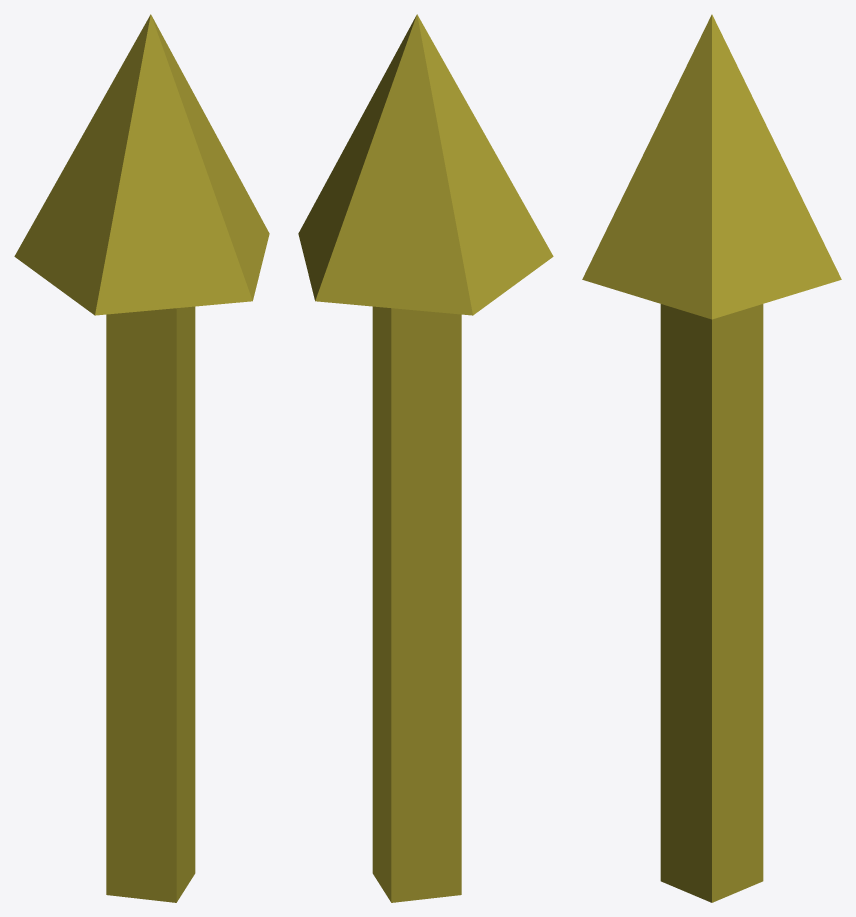
Rendered from deposit_grain.obj.
3 renders of one model, left to right at view 1: azimuth 30°, elevation 25°; view 2: azimuth 150°, elevation 25°; view 3: azimuth 270°, elevation 25°, orthographic.
Bounding box in the file's own units: 0.0724 × 0.28 × 0.076.
